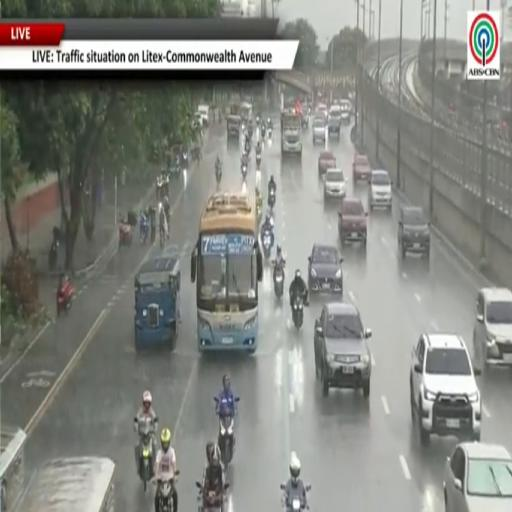bus: (191, 192, 262, 353), (14, 457, 115, 511)
car: (410, 333, 482, 445), (315, 302, 371, 397), (444, 443, 511, 511), (473, 287, 511, 370), (308, 244, 342, 294), (398, 206, 430, 258), (339, 198, 367, 246), (368, 170, 392, 211), (324, 169, 346, 199), (353, 154, 371, 184), (318, 151, 336, 175), (328, 106, 341, 139), (312, 115, 326, 145), (340, 100, 352, 124), (198, 105, 209, 126), (191, 112, 202, 130), (316, 103, 327, 120)
jeepney: (135, 256, 180, 351), (227, 115, 241, 140)
motorcycle: (215, 397, 235, 469), (138, 422, 154, 492), (196, 482, 229, 511), (157, 471, 179, 511), (280, 485, 308, 511), (57, 280, 74, 316), (48, 227, 62, 270), (292, 295, 304, 330), (273, 261, 284, 298), (119, 222, 133, 248), (48, 238, 59, 270), (262, 230, 272, 260), (140, 216, 149, 244), (268, 189, 275, 210), (182, 152, 188, 170), (160, 228, 165, 249), (216, 166, 221, 185), (257, 204, 262, 223), (242, 164, 247, 180), (256, 154, 261, 169), (245, 141, 250, 154), (261, 125, 266, 138), (268, 128, 272, 139), (256, 117, 260, 125)
truck: (281, 108, 302, 155)
